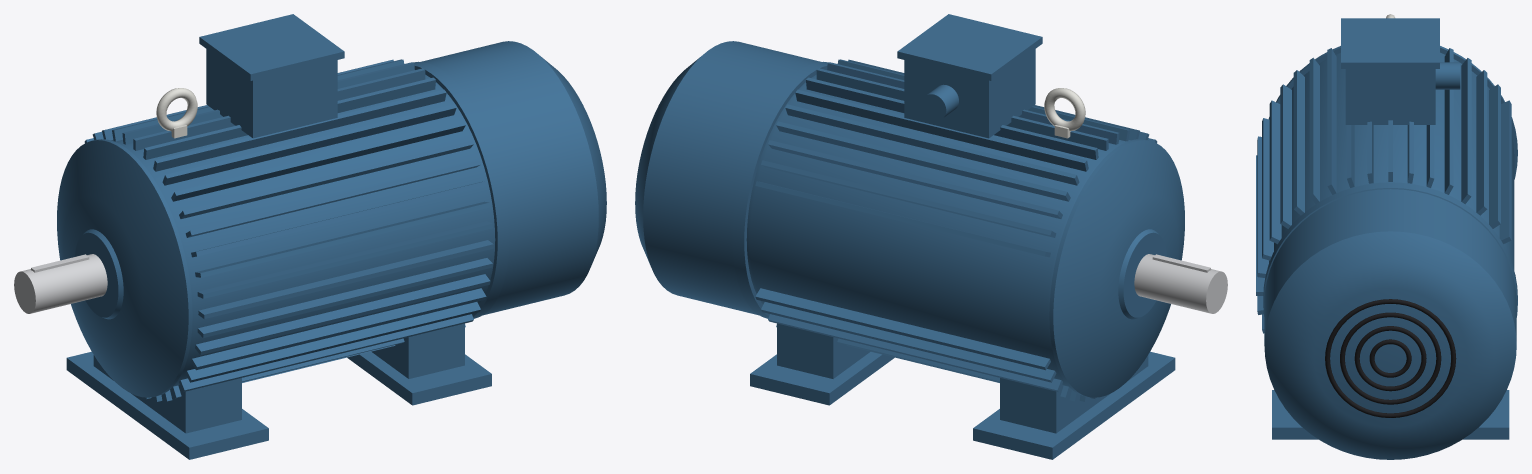
3 renders of one model, left to right at view 1: azimuth 30°, elevation 25°; view 2: azimuth 150°, elevation 25°; view 3: azimuth 270°, elevation 25°, orthographic. The views are drawn at different scales.
Visible parts, largest first — view 1: MT_FRAME, MT_END_SHIELDS, MT_FAN_COVER, MT_FEET, MT_TERMINAL_BOX, MT_SHAFT, MT_LIFTING_EYE; view 2: MT_FRAME, MT_END_SHIELDS, MT_FAN_COVER, MT_FEET, MT_TERMINAL_BOX, MT_SHAFT, MT_LIFTING_EYE; view 3: MT_FAN_COVER, MT_FRAME, MT_TERMINAL_BOX, MT_FAN_GRILLE, MT_END_SHIELDS, MT_FEET.
Part boxes in pixels (x1,y1,x2,y2): MT_FRAME: (84, 59, 495, 401); MT_END_SHIELDS: (57, 61, 509, 397); MT_FAN_COVER: (421, 41, 606, 315); MT_FEET: (66, 323, 491, 459); MT_TERMINAL_BOX: (199, 14, 344, 138); MT_SHAFT: (14, 254, 107, 313); MT_LIFTING_EYE: (156, 88, 197, 138); MT_FRAME: (746, 59, 1157, 401); MT_END_SHIELDS: (732, 61, 1184, 397); MT_FAN_COVER: (635, 41, 820, 315); MT_FEET: (750, 323, 1175, 459); MT_TERMINAL_BOX: (897, 14, 1042, 138); MT_SHAFT: (1134, 254, 1227, 313); MT_LIFTING_EYE: (1044, 88, 1085, 138); MT_FAN_COVER: (1264, 189, 1516, 459); MT_FRAME: (1256, 48, 1514, 333); MT_TERMINAL_BOX: (1341, 18, 1460, 124); MT_FAN_GRILLE: (1325, 299, 1456, 417); MT_END_SHIELDS: (1263, 46, 1517, 317); MT_FEET: (1272, 390, 1509, 439).
Size of the model in its own units: 0.8255 by 0.492 by 0.3601.
